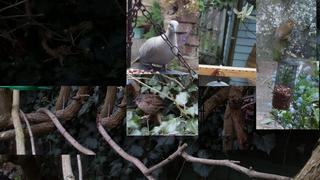collared dove: (131, 20, 179, 72)
dunnock: (132, 94, 178, 120)
robin: (273, 20, 296, 46)
